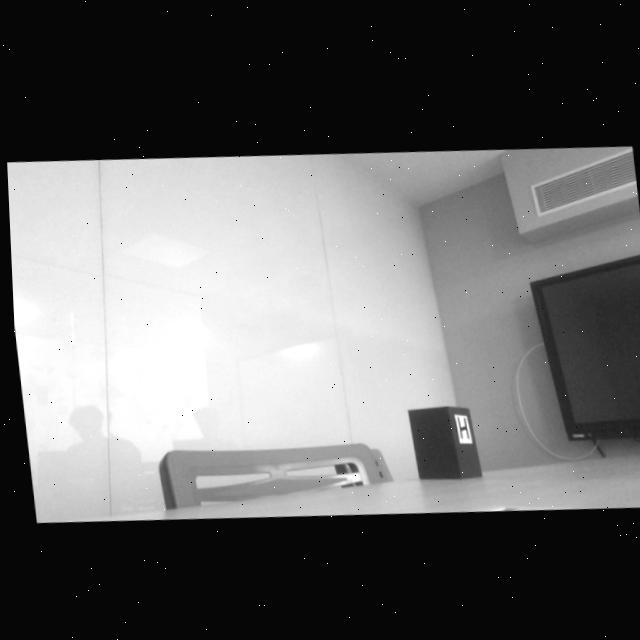H: (453, 413, 465, 435)
